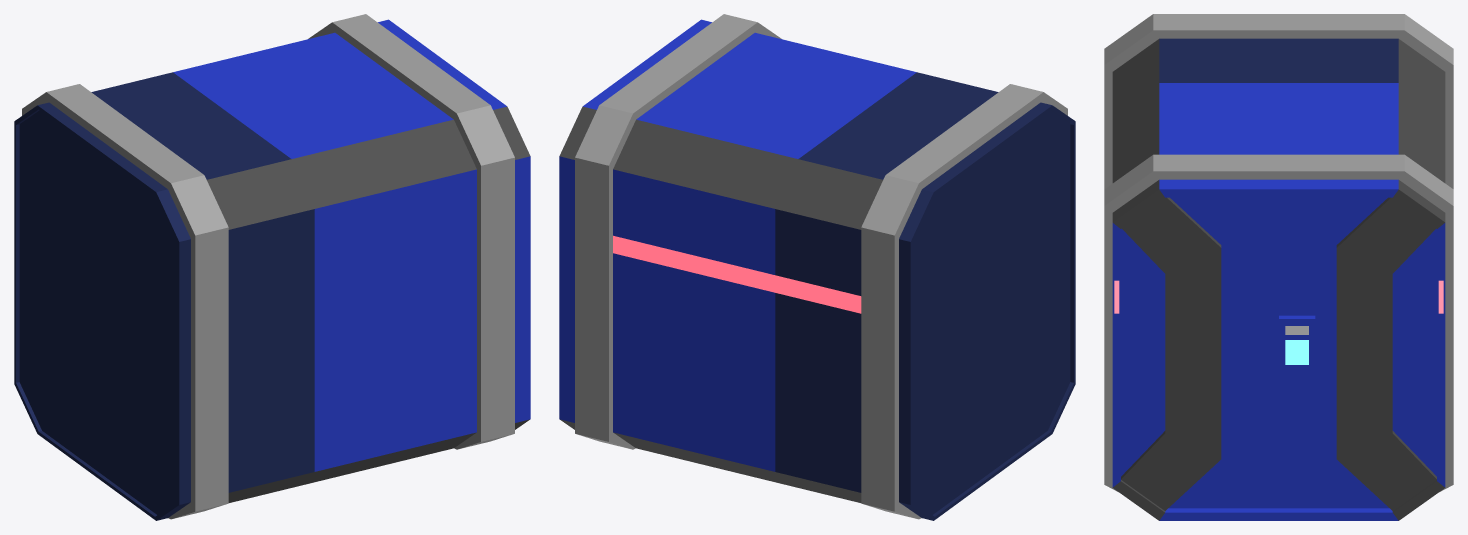
Rendered from Blue Container.fbx.
The picture shows the model from 3 angles, left to right: view 1: azimuth 30°, elevation 25°; view 2: azimuth 150°, elevation 25°; view 3: azimuth 270°, elevation 25°; orthographic projection.
Parts seen in each view (by area): view 1: Cube.006; view 2: Cube.006; view 3: Cube.006.
Boxes of the visible parts, x1,y1,x2,y2 form: Cube.006: [14, 14, 530, 520]; Cube.006: [559, 14, 1075, 520]; Cube.006: [1104, 14, 1453, 520].
Size of the model in its own units: 300 by 275 by 256.
